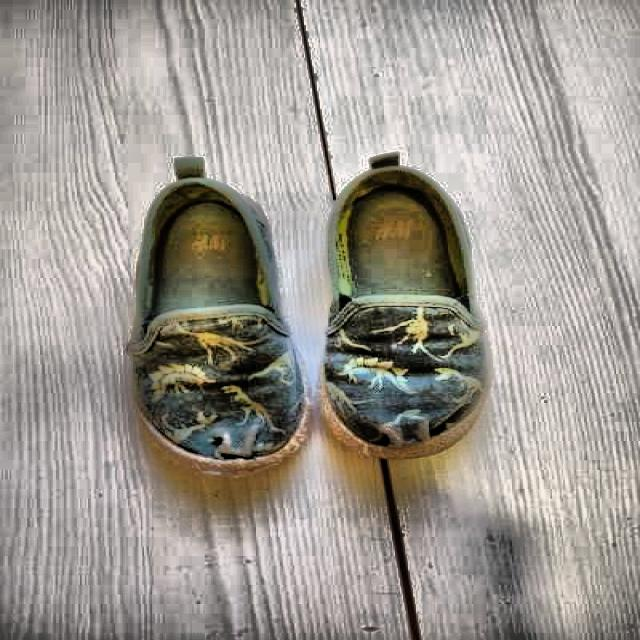shoes: (90, 126, 538, 520)
